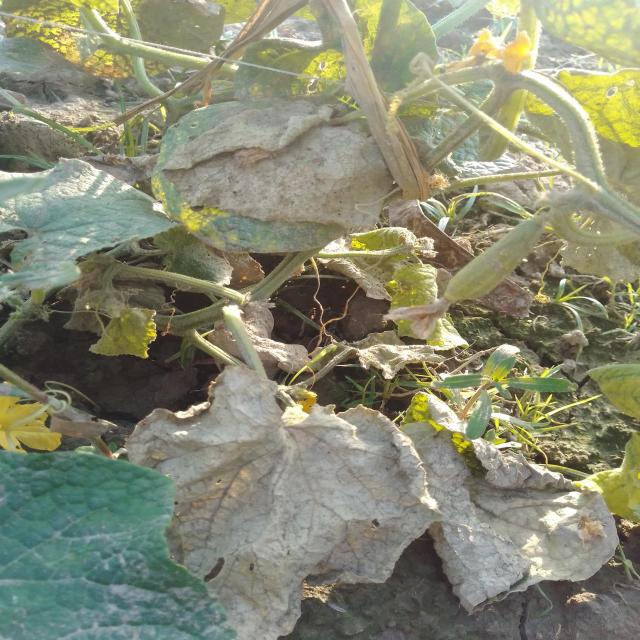cucumber_bacterial: (111, 418, 412, 640), (154, 82, 411, 250), (439, 413, 616, 595)
